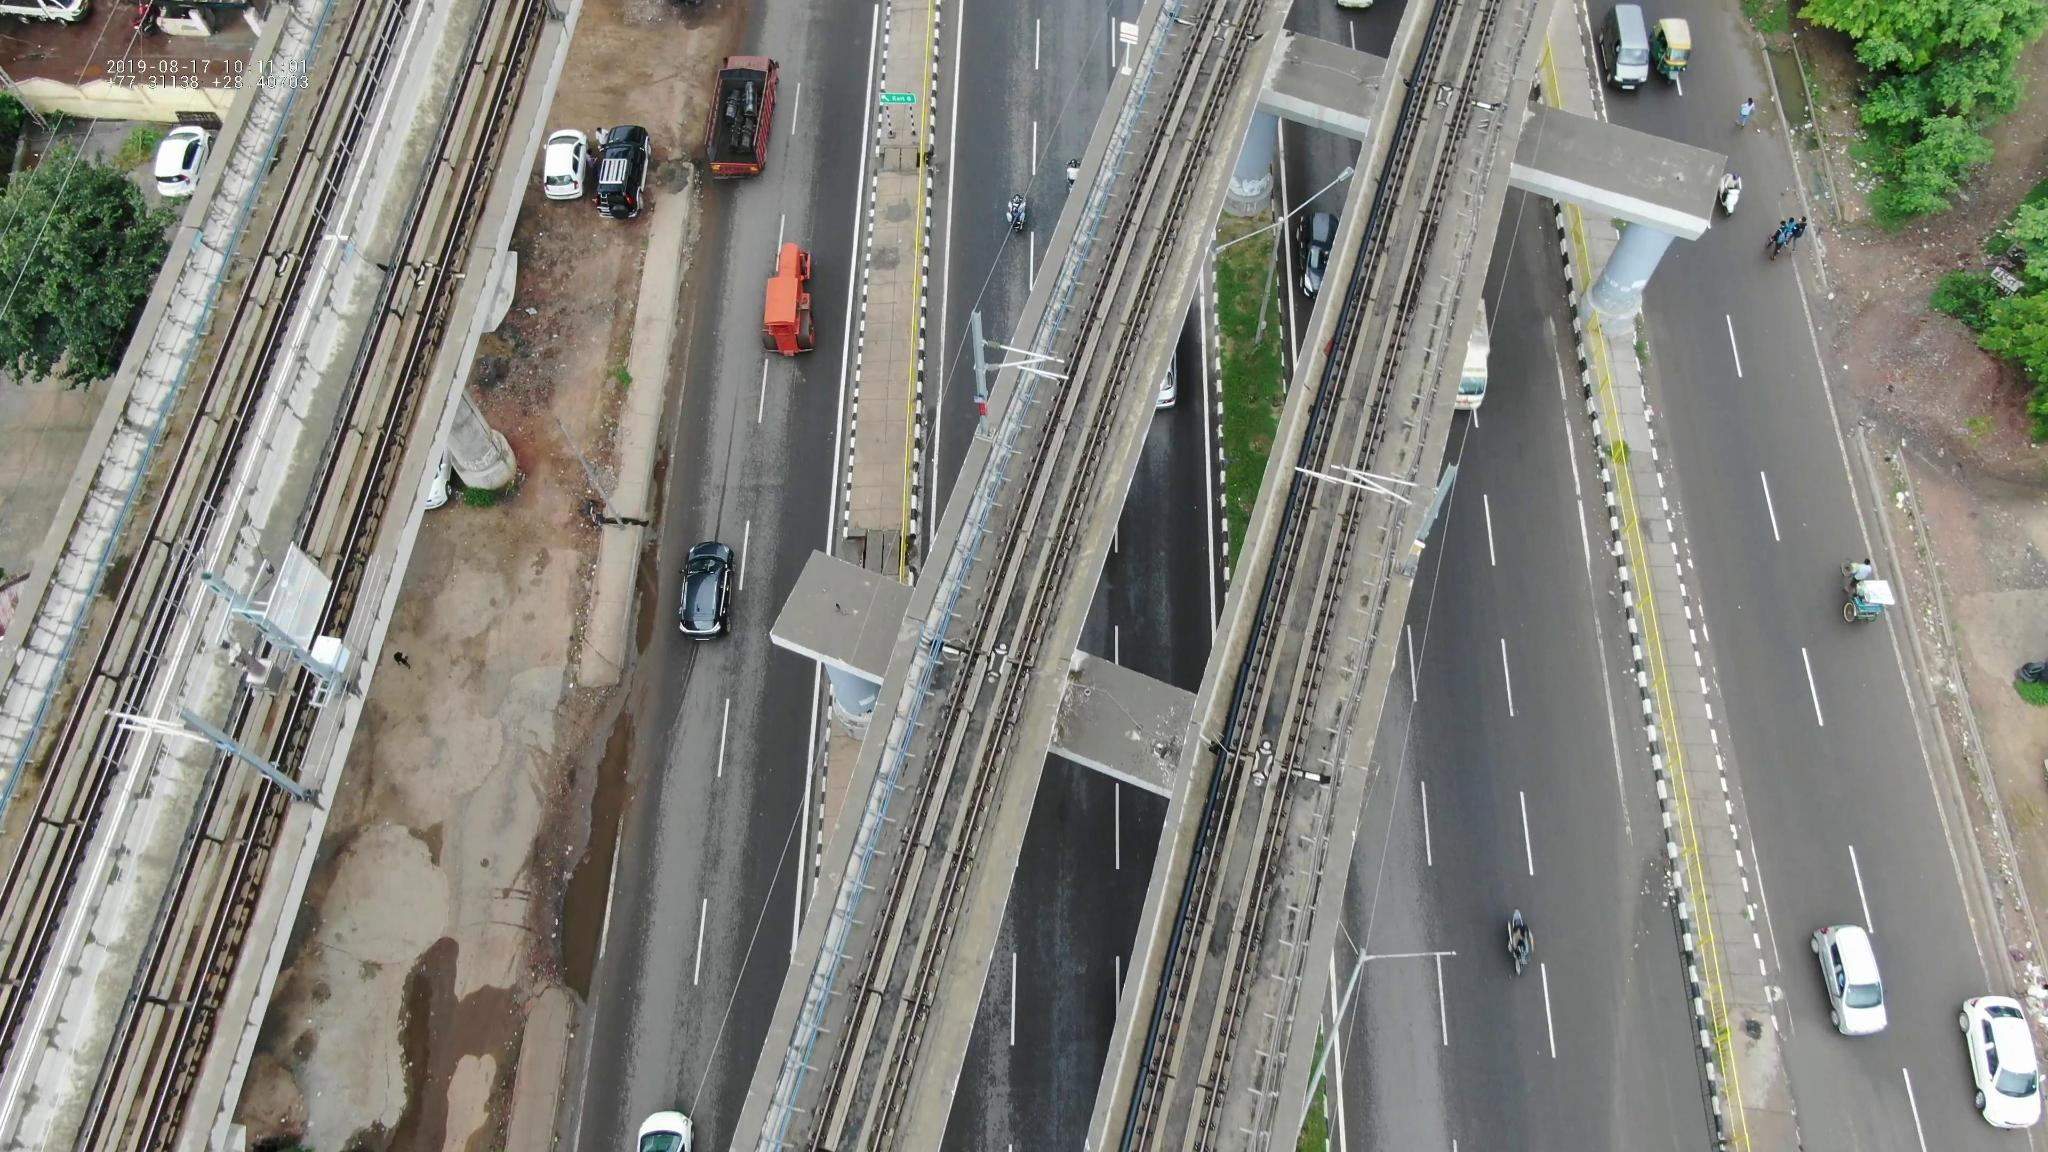Waterlogging: (540, 729, 641, 985), (1755, 37, 1824, 142)
